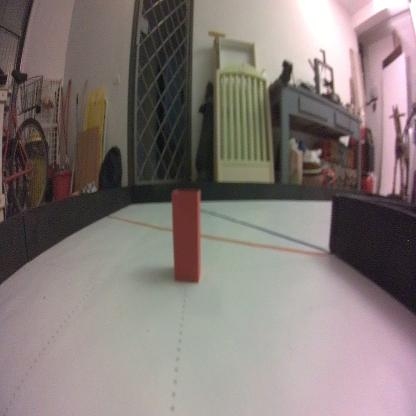red: (170, 187, 202, 284)
